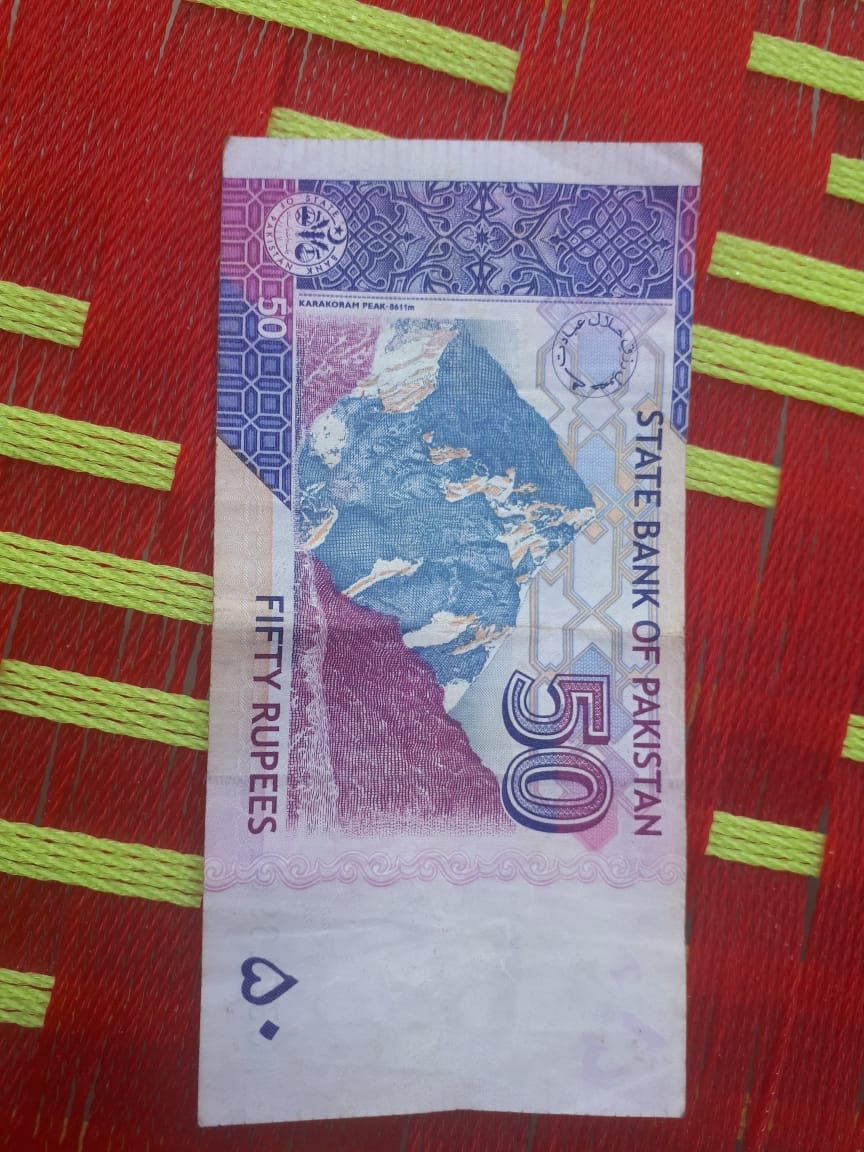50 rupee: (175, 118, 743, 1150)
